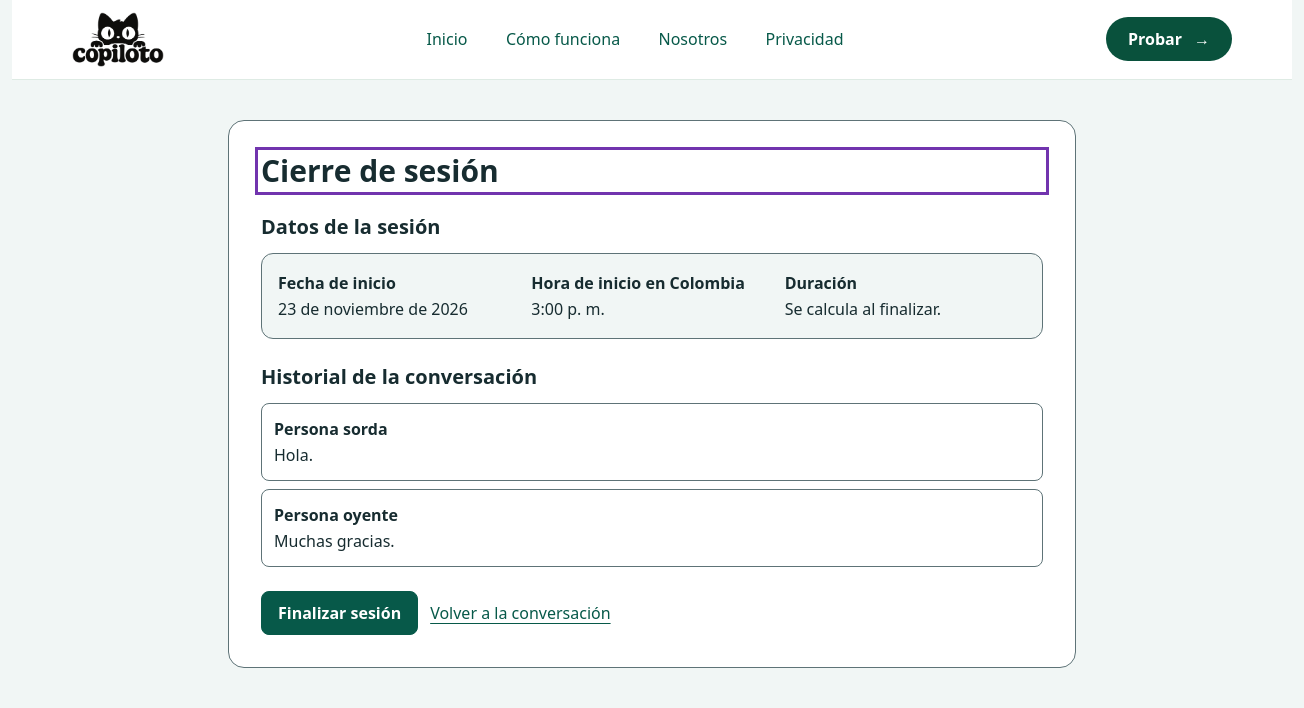
Test: omite el enlace al cuestionario fuera del modo piloto
The width and height of the screenshot is (1304, 708).
Click the button "Finalizar sesión" at (340, 613), box x1=261 y1=591 x2=418 y2=635
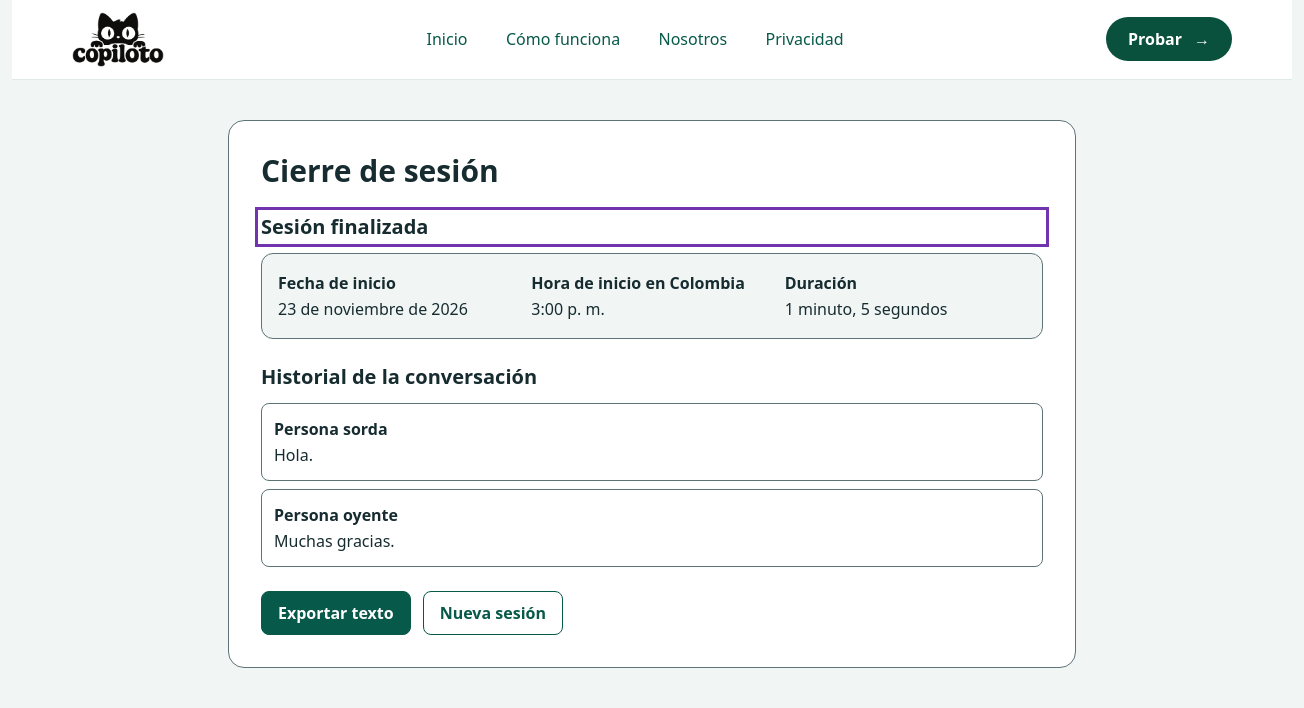
Now the heading "Sesión finalizada" is shown, box x1=261 y1=213 x2=428 y2=240
